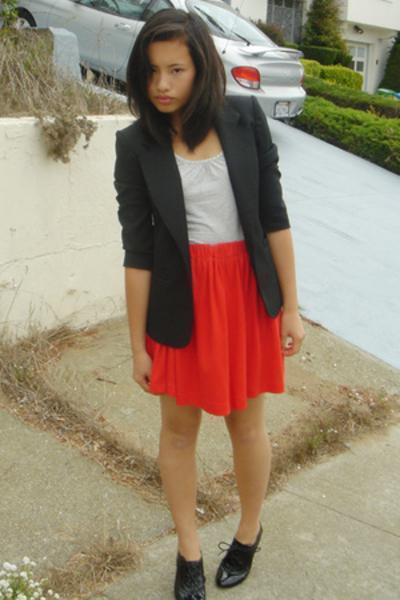jacket: (114, 84, 289, 348)
shirt: (180, 156, 242, 244)
shoe: (174, 540, 251, 599)
skirt: (144, 240, 284, 415)
